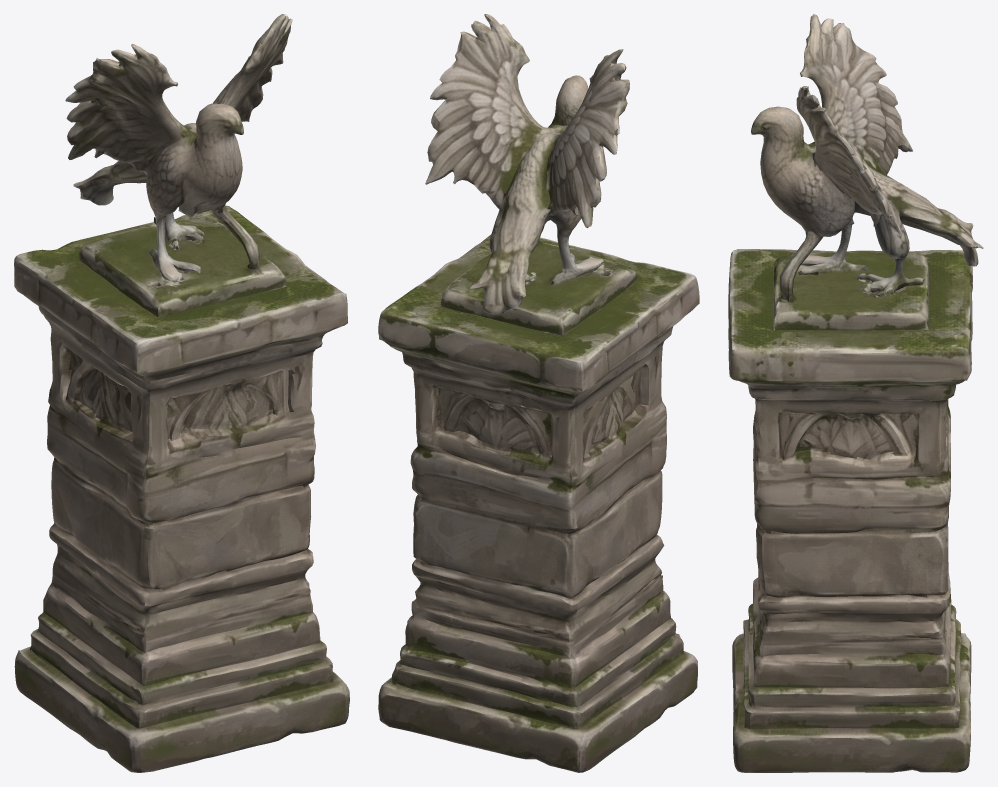
File: cloudreach_eagle_statue_plinth.glb
3 views of the same model, side by side, from view 1: azimuth 30°, elevation 25°; view 2: azimuth 150°, elevation 25°; view 3: azimuth 270°, elevation 25° (orthographic). The views are drawn at different scales.
Parts seen in each view (by area): view 1: Mesh_0; view 2: Mesh_0; view 3: Mesh_0.
Boxes of the visible parts, x1,y1,x2,y2 form: Mesh_0: (14, 14, 349, 772); Mesh_0: (378, 14, 699, 772); Mesh_0: (728, 14, 983, 772).
Bounding box in the file's own units: 1.67 × 5 × 1.71.
Materials: 1 (1 with a texture image).
